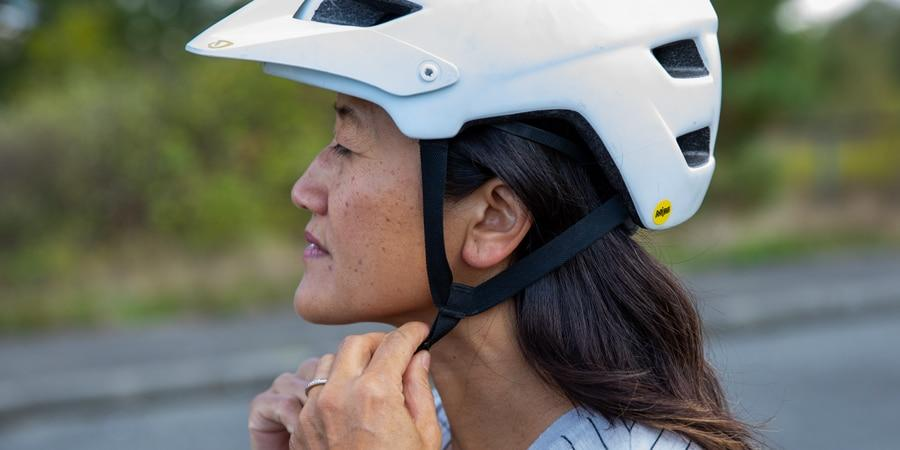helmet: (242, 0, 738, 288)
